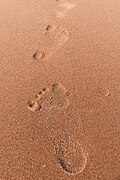human_foot_print: (47, 125, 97, 179), (50, 129, 87, 174), (32, 24, 68, 59), (28, 83, 70, 111), (45, 24, 68, 48), (55, 0, 75, 18)
